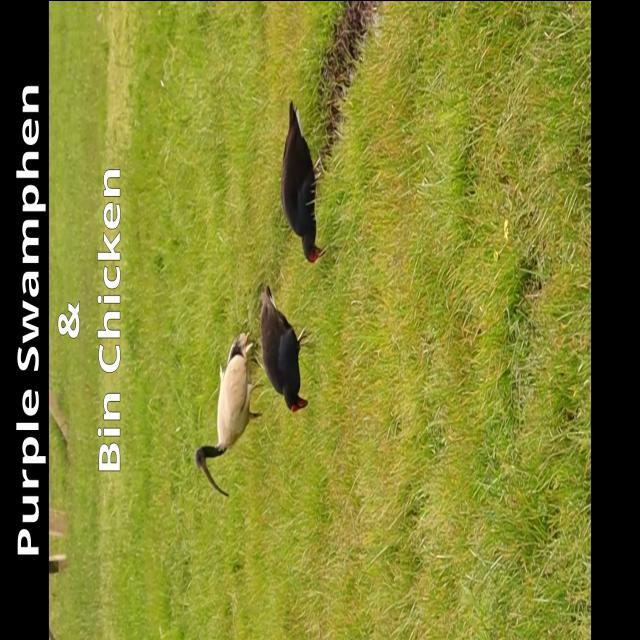Birds-Ibis: (190, 336, 264, 498)
Birds-Other: (278, 96, 328, 268), (256, 280, 312, 415)
